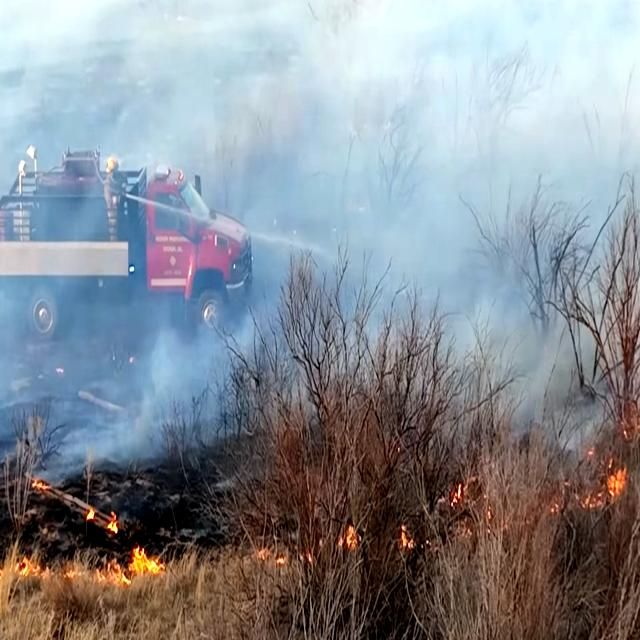smoke: (292, 0, 640, 140)
